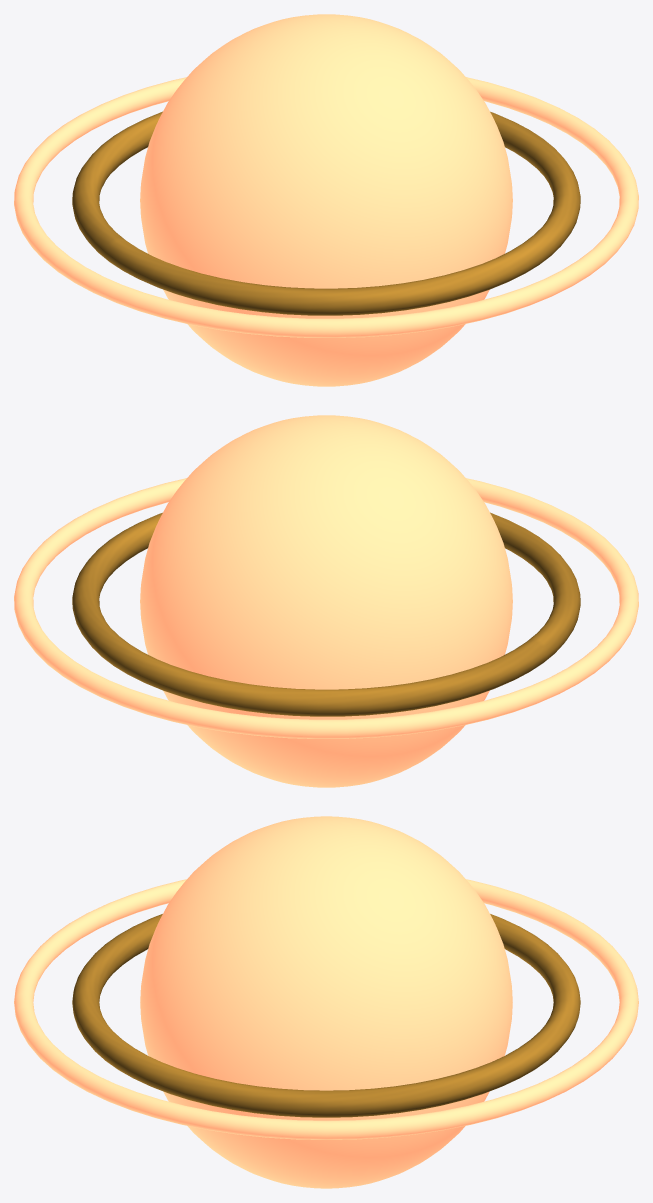
File: ArcaneOrb.glb
The picture shows the model from 3 angles, top to bottom: view 1: azimuth 30°, elevation 25°; view 2: azimuth 150°, elevation 25°; view 3: azimuth 270°, elevation 25°; orthographic projection.
Parts seen in each view (by area): view 1: Core, RingB, RingA; view 2: Core, RingB, RingA; view 3: Core, RingB, RingA.
Part boxes in pixels (x1,y1,x2,y2): Core: [140, 14, 512, 386]; RingB: [14, 77, 638, 337]; RingA: [72, 111, 580, 315]; Core: [140, 415, 512, 787]; RingB: [14, 478, 638, 738]; RingA: [72, 512, 580, 716]; Core: [140, 816, 512, 1188]; RingB: [14, 879, 638, 1139]; RingA: [72, 914, 580, 1117].
Bounding box in the file's own units: 1.61 × 0.96 × 1.61.
Materials: 2 (1 with a texture image).
